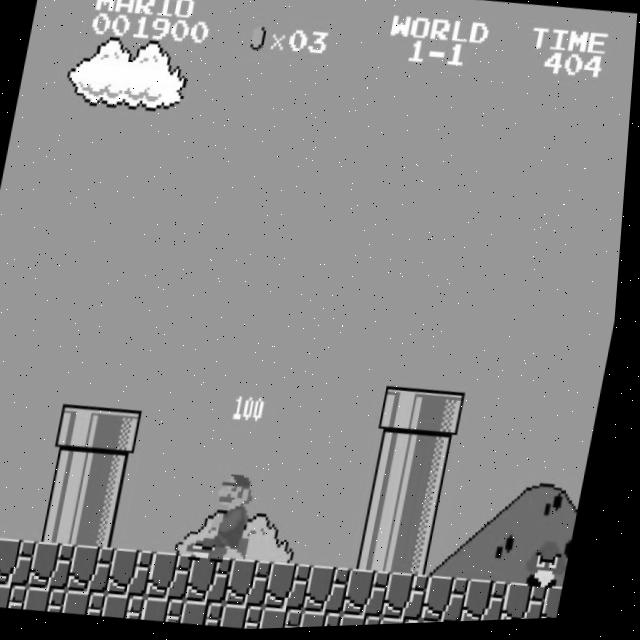0- big_mario: (211, 465, 271, 565)
14- pipe: (52, 449, 101, 501), (44, 494, 93, 546), (91, 452, 140, 504), (83, 498, 132, 550), (367, 479, 416, 531), (359, 524, 408, 576), (407, 482, 456, 534), (398, 528, 447, 580), (376, 433, 425, 484), (415, 437, 464, 488)
15- pipe_head: (384, 387, 433, 440), (423, 391, 472, 443), (60, 403, 109, 454), (100, 407, 149, 458)
17- undestructible_block: (75, 543, 124, 596), (114, 547, 163, 600), (154, 551, 203, 604), (193, 554, 242, 607), (232, 558, 281, 611), (272, 562, 321, 615), (351, 569, 400, 622), (390, 573, 439, 626), (35, 540, 84, 592), (311, 566, 360, 618), (430, 577, 479, 626), (0, 536, 45, 589), (469, 581, 517, 625), (509, 584, 557, 624), (32, 585, 76, 615), (111, 592, 155, 622), (150, 596, 194, 626), (189, 600, 234, 629), (71, 589, 115, 618), (229, 604, 273, 632), (0, 581, 37, 611), (268, 607, 312, 631), (308, 611, 352, 630), (549, 589, 571, 623), (348, 615, 391, 629), (387, 618, 430, 628), (0, 532, 5, 584)
8- goomba: (528, 540, 580, 595)
